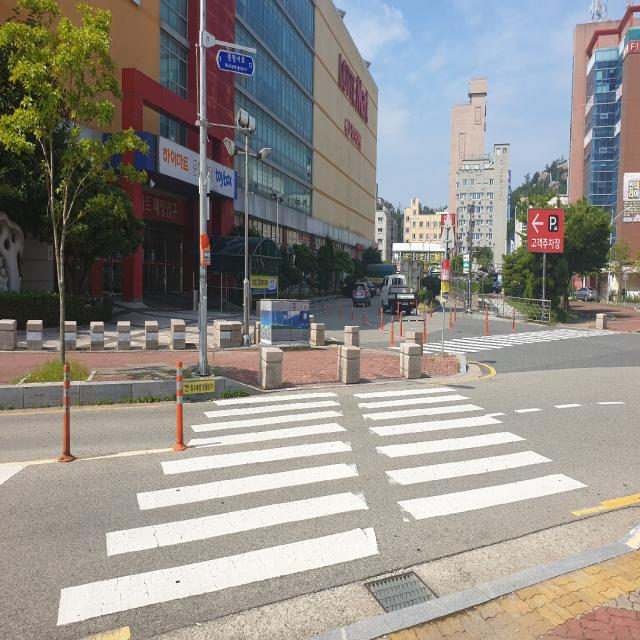횡단보도: (56, 387, 589, 627), (410, 322, 619, 362)
